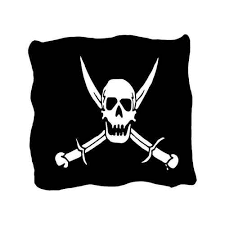Jolly Roger Flag: (24, 34, 200, 187)
